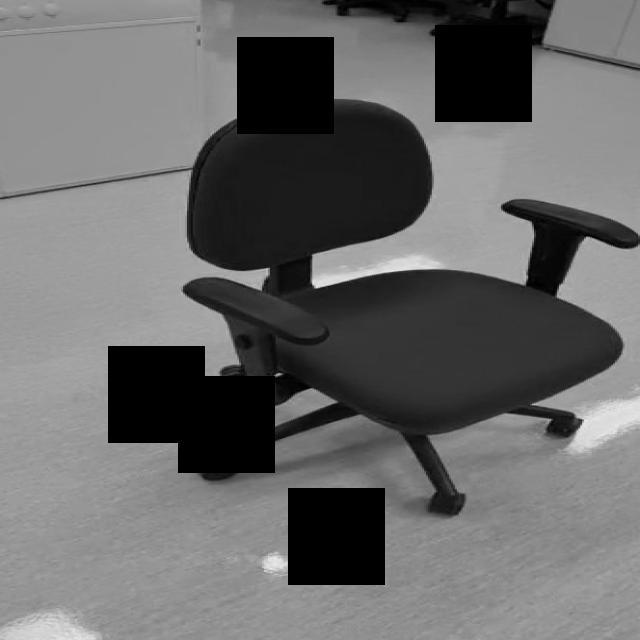chair: (184, 98, 640, 516)
